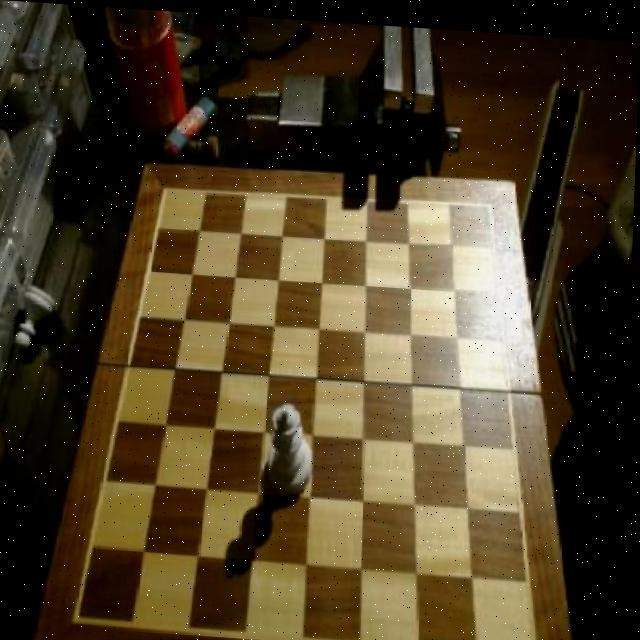white-pawn: (271, 398, 319, 490)
